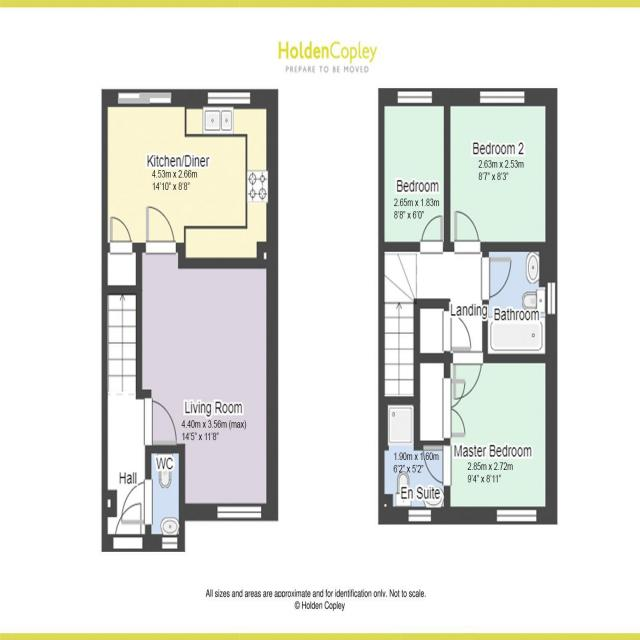DOOR: (142, 398, 181, 446), (145, 203, 177, 257), (479, 254, 514, 303), (452, 207, 482, 256), (441, 309, 473, 353), (421, 447, 453, 487), (418, 213, 445, 256), (109, 213, 135, 257)
ROOM: (135, 238, 279, 523), (100, 88, 279, 271), (421, 350, 559, 525), (443, 87, 559, 255), (377, 86, 452, 253)
WINDOW: (216, 501, 263, 525), (206, 87, 252, 111), (478, 86, 526, 109), (495, 504, 538, 527), (396, 86, 434, 108), (407, 505, 432, 527), (161, 534, 178, 553)
